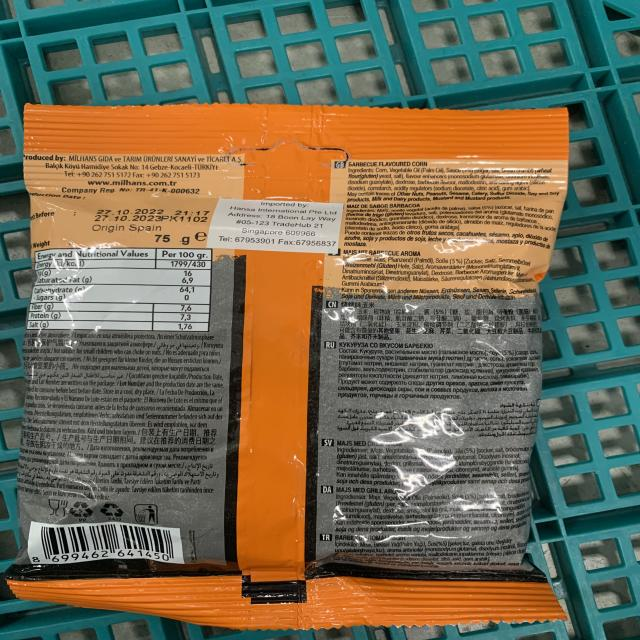object_name: (32, 106, 541, 621)
